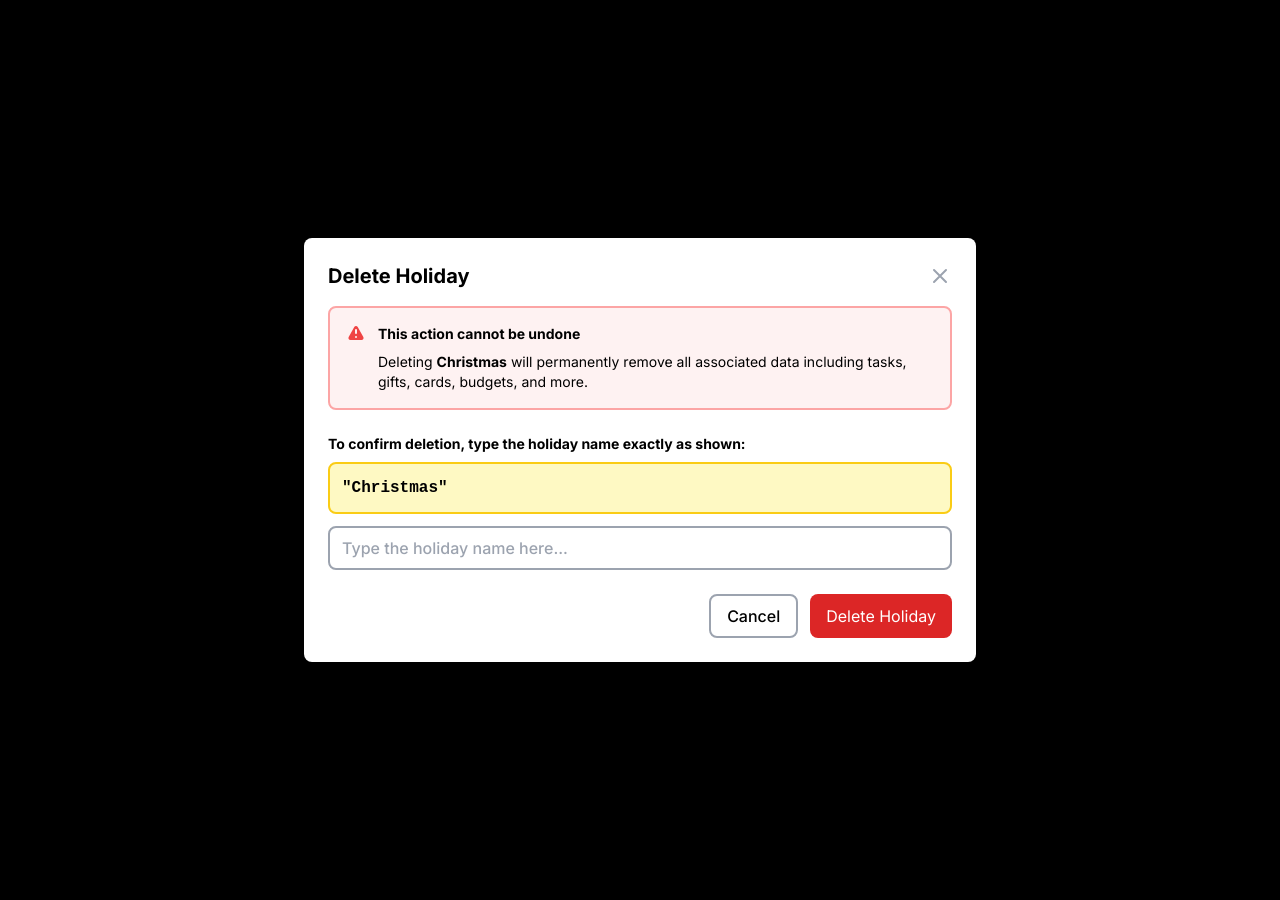
HolidayDeleteConfirmationModal › failures › shows an error when the API replies OK but success is false
This screenshot has width=1280, height=900.
Type "Christmas" into the field with placeholder "Type the holiday name here..." at (640, 548), box [328,526,952,570]
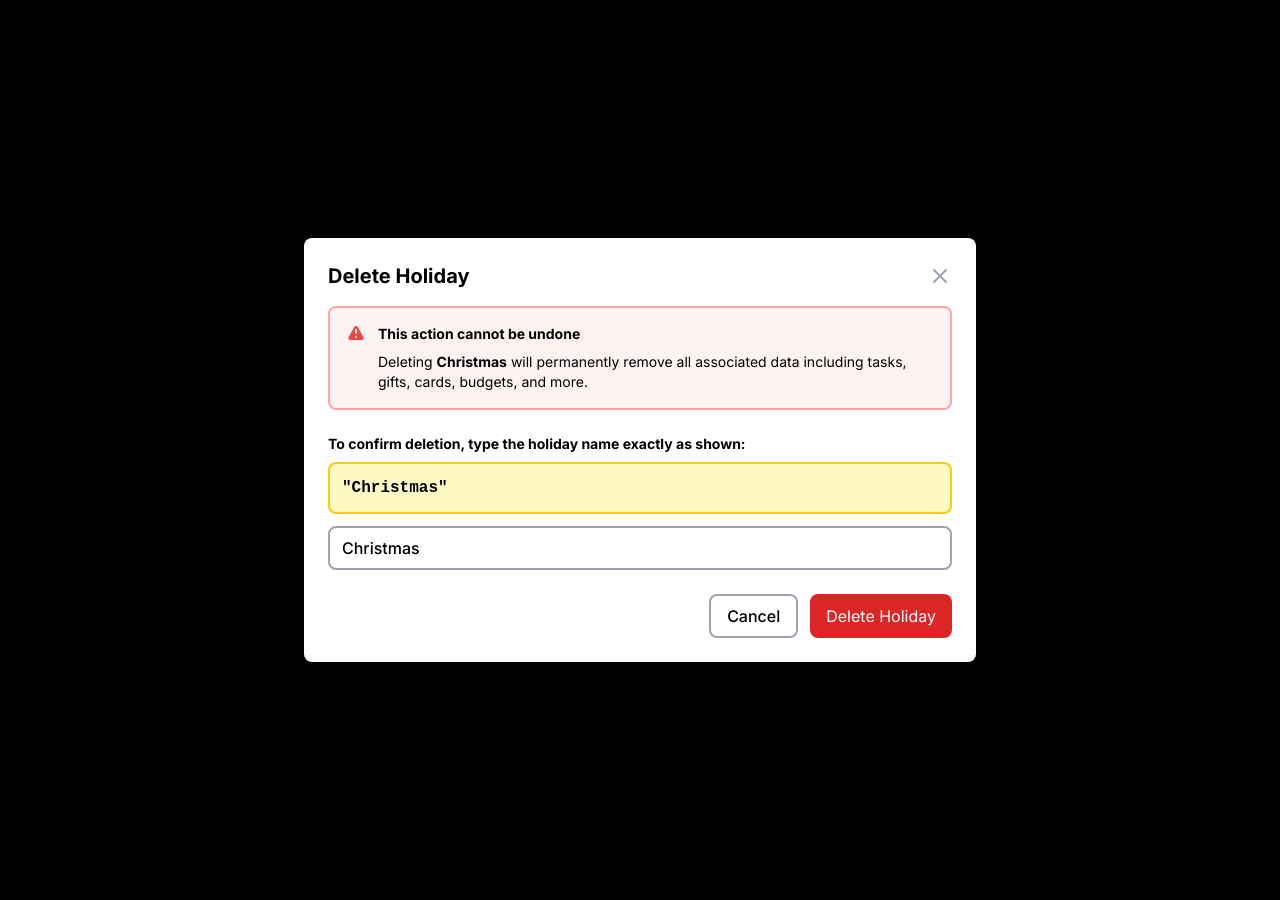
Click the button "Delete Holiday" at (881, 616), box [810,594,952,638]
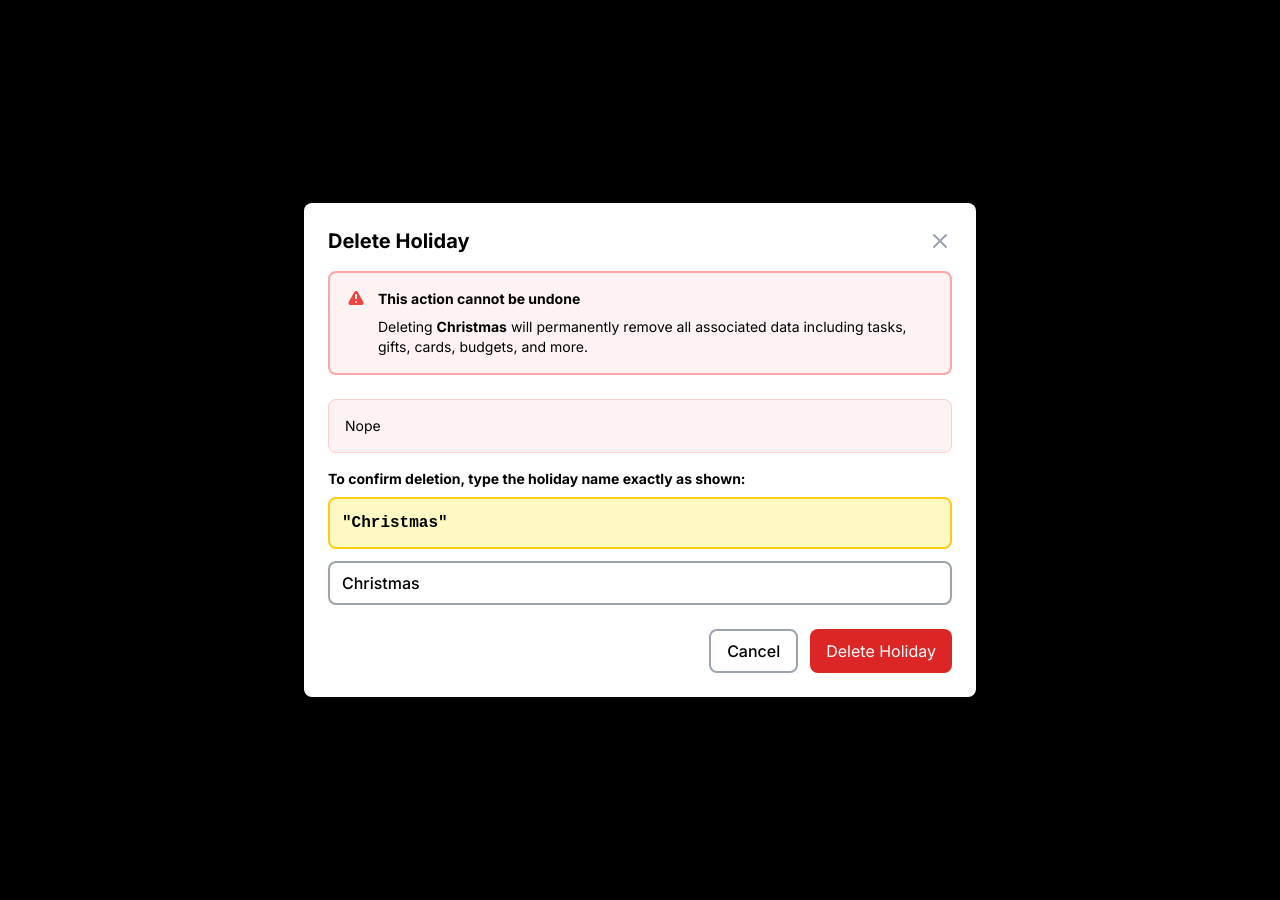
Expected: the text "Nope" is shown, [345,417,381,434]
